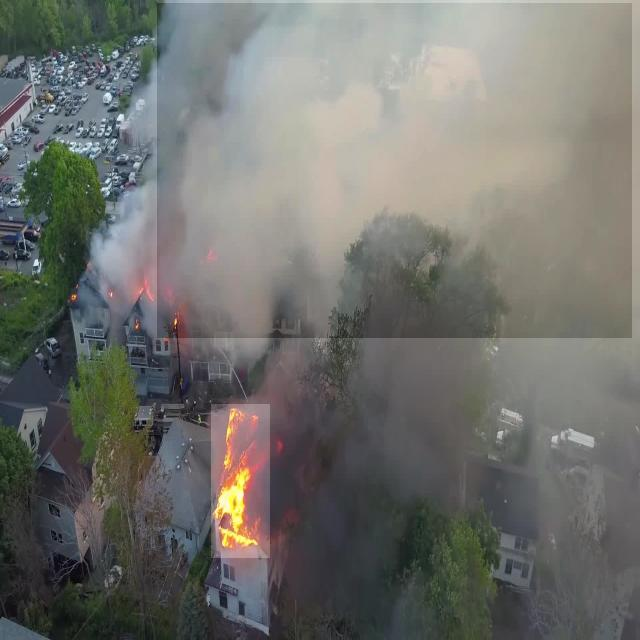Fire: (211, 404, 270, 558)
Smoke: (157, 3, 632, 338)
